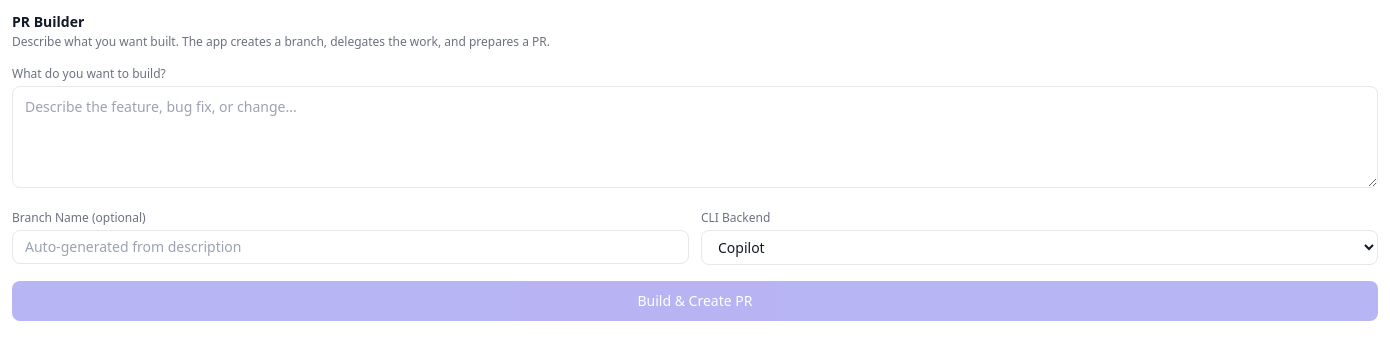
Test: PRBuilder › enables Build button when description has content
The width and height of the screenshot is (1390, 338).
Type "Add login page" into the text box with placeholder "Describe the feature, bug fix, or change...". click: (695, 137)
box: [12,86,1378,188]
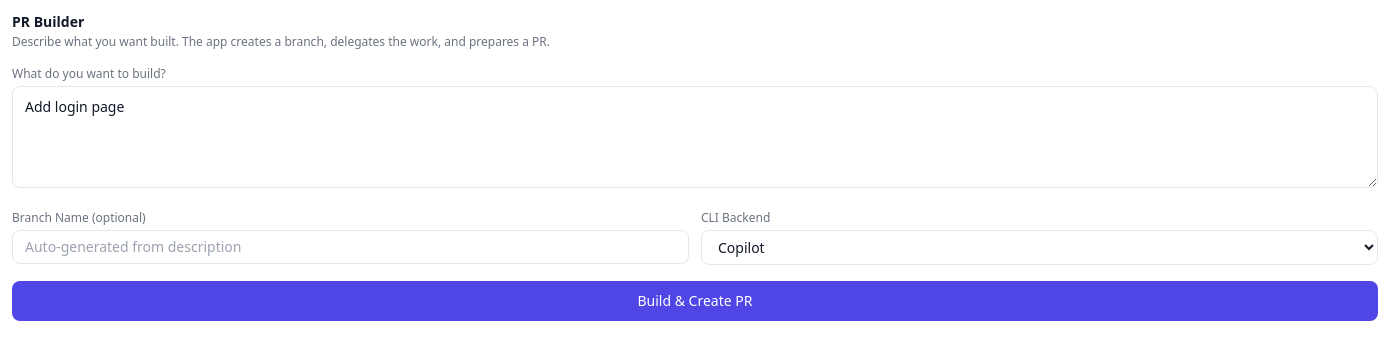
Expected: the button "Build & Create PR" is enabled, [12,281,1378,321]
